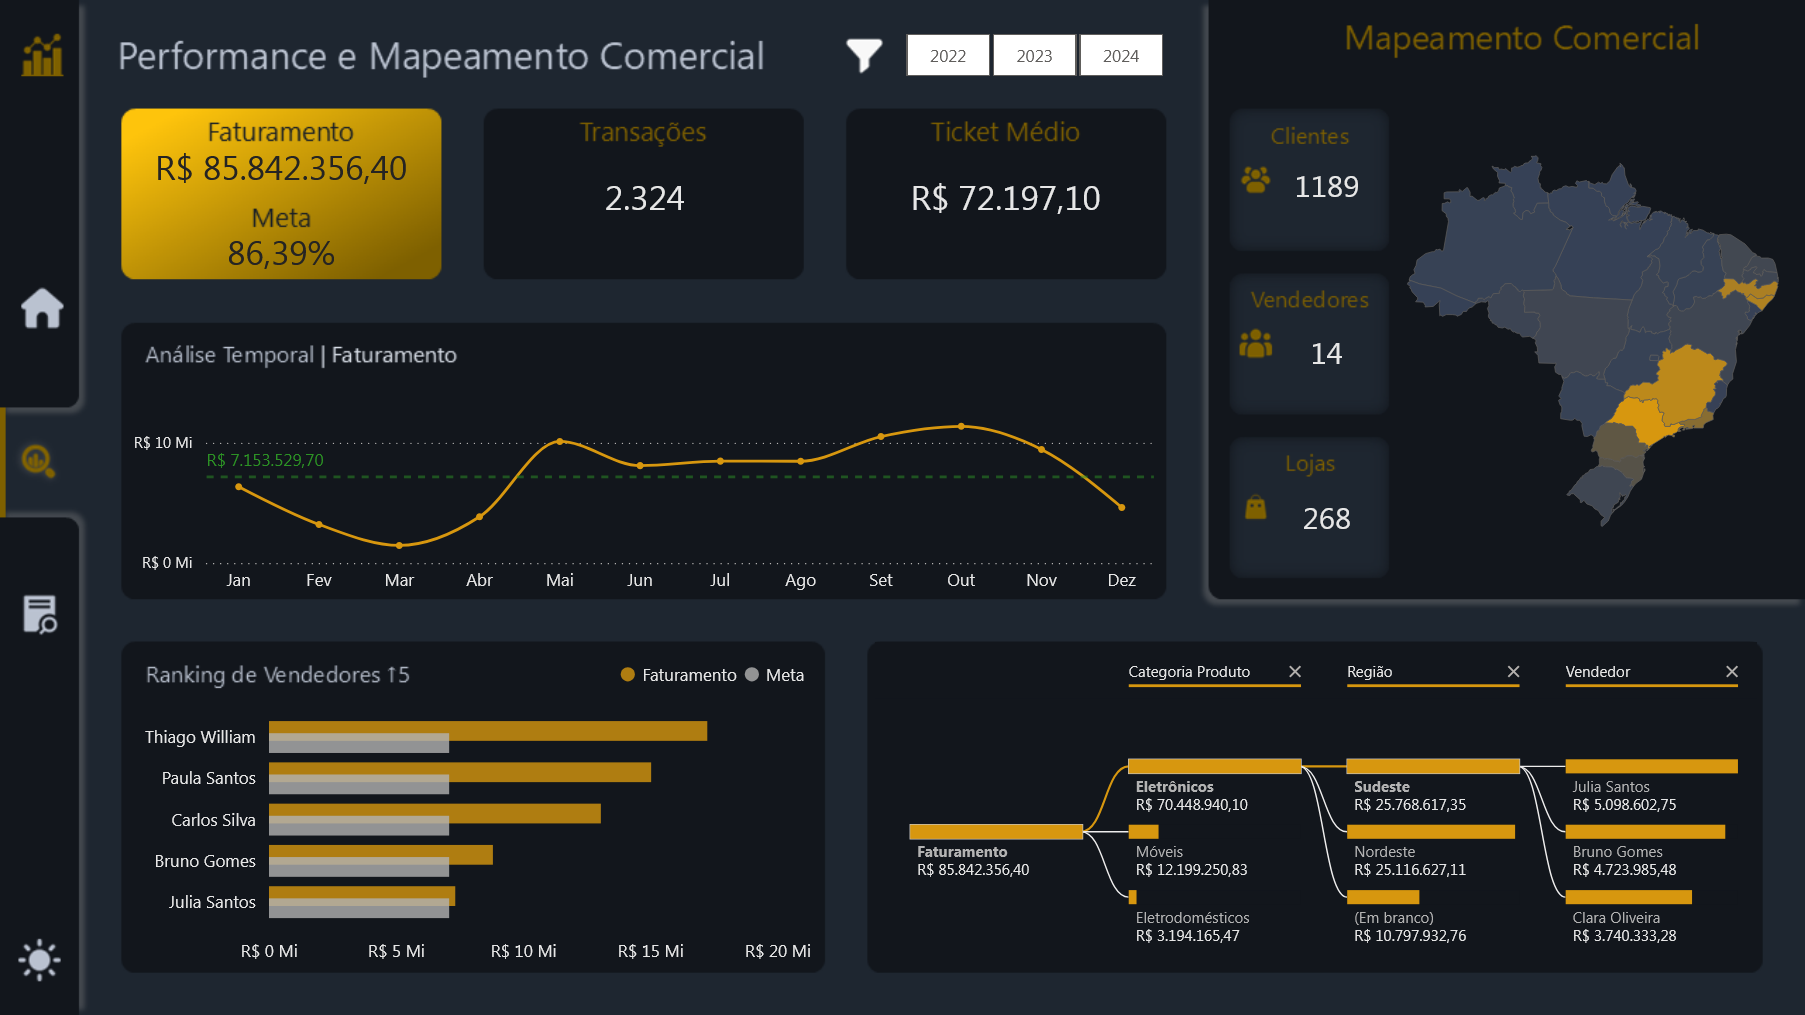

This screenshot's page, from the dashboard's own definition file:
{"tool":"powerbi","page":{"name":"Comercial Dark","canvas":[1280,720],"ordinal":2},"visuals":[{"type":"clusteredBarChart","fields":{"Category":["Vendedores.Vendedor"],"Y":["Vendas.Vendas Totais","Meta.Meta Total"]},"box":[86.7,462,496.9,228],"z":0},{"type":"card","title":"Vendas Totais","fields":{"Values":["Vendas.Vendas Totais"]},"box":[86.5,100,226,40],"z":1000},{"type":"card","title":"Meta Atingida","fields":{"Values":["Meta.Atingimento da Meta"]},"box":[86.7,160,226,40],"z":2000},{"type":"card","title":"Quantidade de Vendas","fields":{"Values":["Vendas.Quantidade de Vendas"]},"box":[344,105,226.7,72],"z":3000},{"type":"card","title":"Ticket Médio por Cliente","fields":{"Values":["Vendas.Ticket Médio"]},"box":[600,105,226.7,72],"z":4000},{"type":"lineChart","fields":{"Category":["dCalendario.mes_abreviado"],"Y":["Vendas.Vendas Totais"]},"box":[86.7,260,740,166],"z":5000},{"type":"card","title":"Clientes","fields":{"Values":["Clientes.Clientes Ativos"]},"box":[900,98,82.4,70],"z":6000},{"type":"card","title":"Vendedores","fields":{"Values":["Medidas.quantidade_vendedores"]},"box":[900,216,82,70],"z":7000},{"type":"card","title":"Lojas","fields":{"Values":["Medidas.quantidade_lojas"]},"box":[900,332,82,70],"z":8000},{"type":"shapeMap","fields":{"Category":["DE_PARA MAPA.NOME ESTADO"],"Value":["Vendas.Vendas Totais"]},"box":[982,76,296.4,332],"z":9000},{"type":"decompositionTreeVisual","fields":{"Analyze":["Vendas.Vendas Totais"],"ExplainBy":["Vendas.Grupo Produto","Clientes.Região","Vendedores.Vendedor"]},"box":[620.4,455.7,625.9,232],"z":10000},{"type":"slicer","title":"Data","fields":{"Values":["dCalendario.ano"]},"box":[620,20,226,38],"z":11000},{"type":"actionButton","box":[10,219.6,39.1,40],"z":12000},{"type":"actionButton","box":[10,200,40,40],"z":12001},{"type":"actionButton","box":[10.2,414,40,40],"z":12003},{"type":"actionButton","box":[10,660,40,40],"z":12004}]}

Visuals, with their boxes on the page's 1280x720 design canvas (x1, y1, x2, y2). These are canvas units, not pixel positions in the 1805x1015 screenshot, which may show the page scaled, cropped or inside an application window:
clusteredBarChart - Vendedores.Vendedor x Vendas.Vendas Totais: <box>87,462,584,690</box>
"Vendas Totais" card: <box>86,100,312,140</box>
"Meta Atingida" card: <box>87,160,313,200</box>
"Quantidade de Vendas" card: <box>344,105,571,177</box>
"Ticket Médio por Cliente" card: <box>600,105,827,177</box>
lineChart - dCalendario.mes_abreviado x Vendas.Vendas Totais: <box>87,260,827,426</box>
"Clientes" card: <box>900,98,982,168</box>
"Vendedores" card: <box>900,216,982,286</box>
"Lojas" card: <box>900,332,982,402</box>
shapeMap - DE_PARA MAPA.NOME ESTADO x Vendas.Vendas Totais: <box>982,76,1278,408</box>
decompositionTreeVisual - Vendas.Vendas Totais x Vendas.Grupo Produto: <box>620,456,1246,688</box>
"Data" slicer: <box>620,20,846,58</box>
actionButton: <box>10,220,49,260</box>
actionButton: <box>10,200,50,240</box>
actionButton: <box>10,414,50,454</box>
actionButton: <box>10,660,50,700</box>
